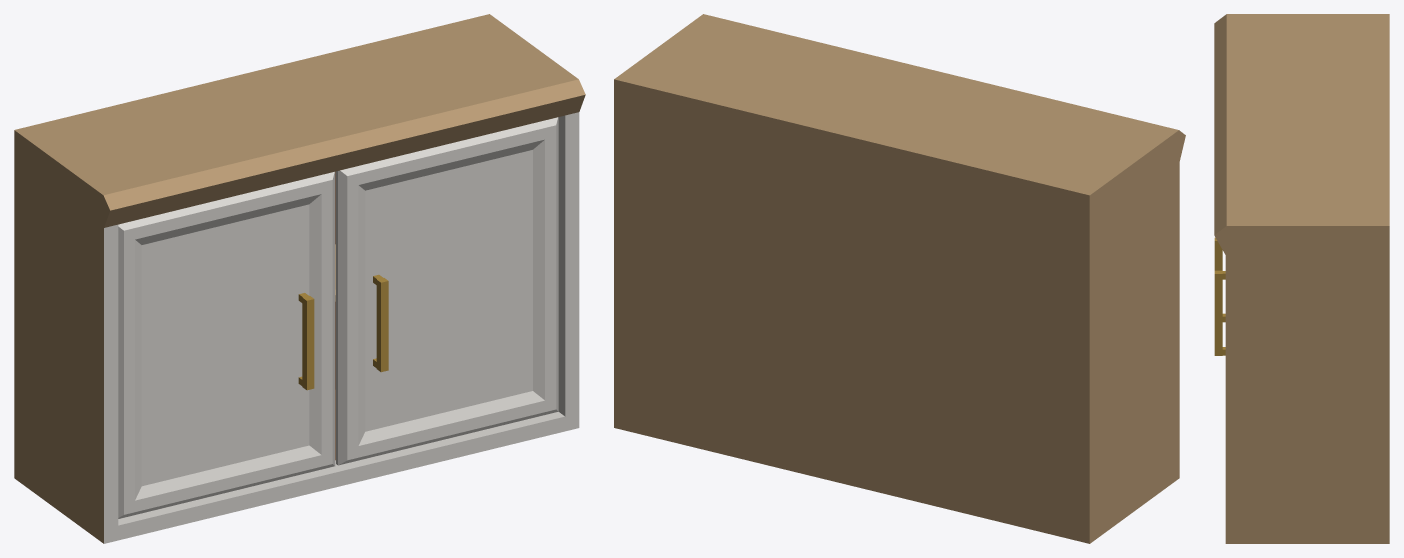
The model's file is wall-cabinet-run-cc0425.glb.
3 renders of one model, left to right at view 1: azimuth 30°, elevation 25°; view 2: azimuth 150°, elevation 25°; view 3: azimuth 270°, elevation 25°, orthographic. The views are drawn at different scales.
Visible parts, largest first — view 1: wall-cabinet-run, door-r, door-l; view 2: wall-cabinet-run; view 3: wall-cabinet-run, door-r, door-l.
Part boxes in pixels (box(x1,y1,x2,y2)): wall-cabinet-run: box(14, 14, 585, 543); door-r: box(336, 117, 558, 465); door-l: box(118, 171, 335, 518); wall-cabinet-run: box(614, 14, 1185, 543); wall-cabinet-run: box(1214, 14, 1389, 543); door-r: box(1214, 270, 1225, 355); door-l: box(1214, 237, 1225, 322).
Bounding box in the file's own units: 1 × 0.7 × 0.35.
